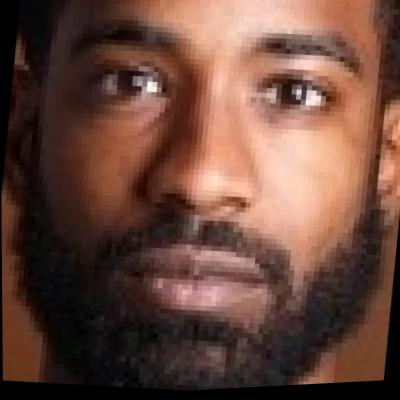netural: (17, 0, 397, 383)
